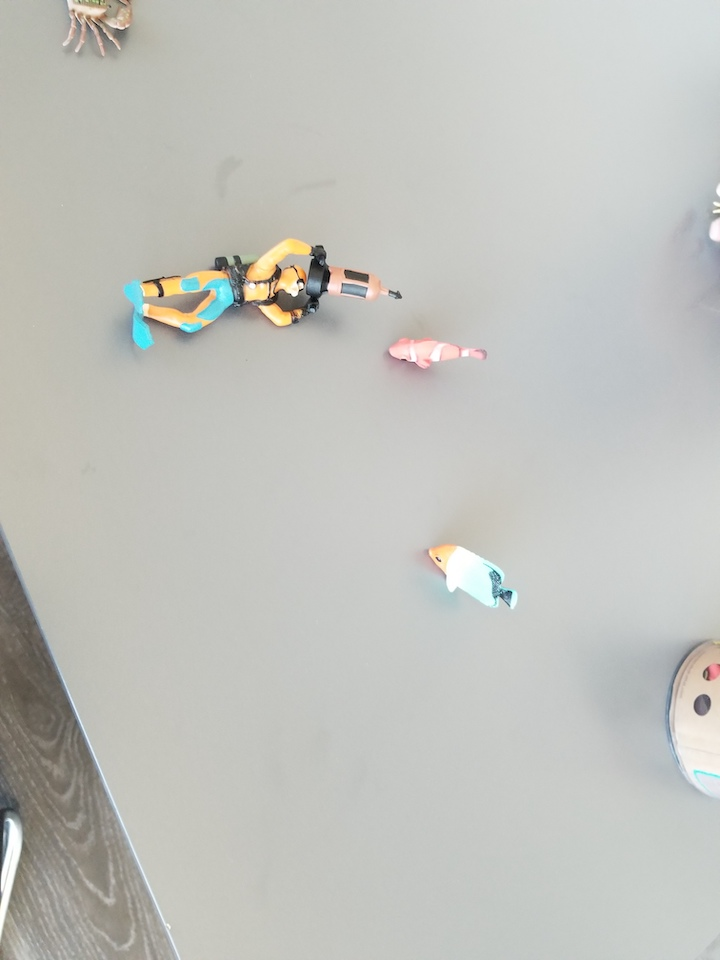crab: (60, 1, 135, 62)
diver: (125, 238, 404, 349)
fish: (424, 542, 523, 615), (383, 337, 492, 372)
